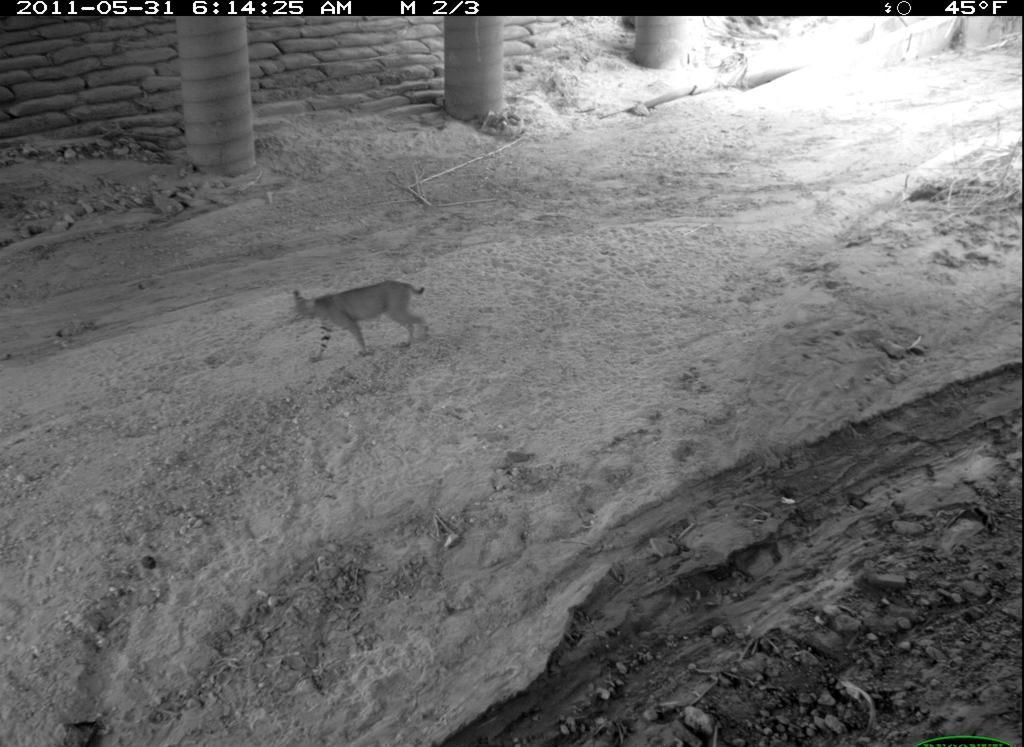bobcat: (283, 272, 441, 367)
